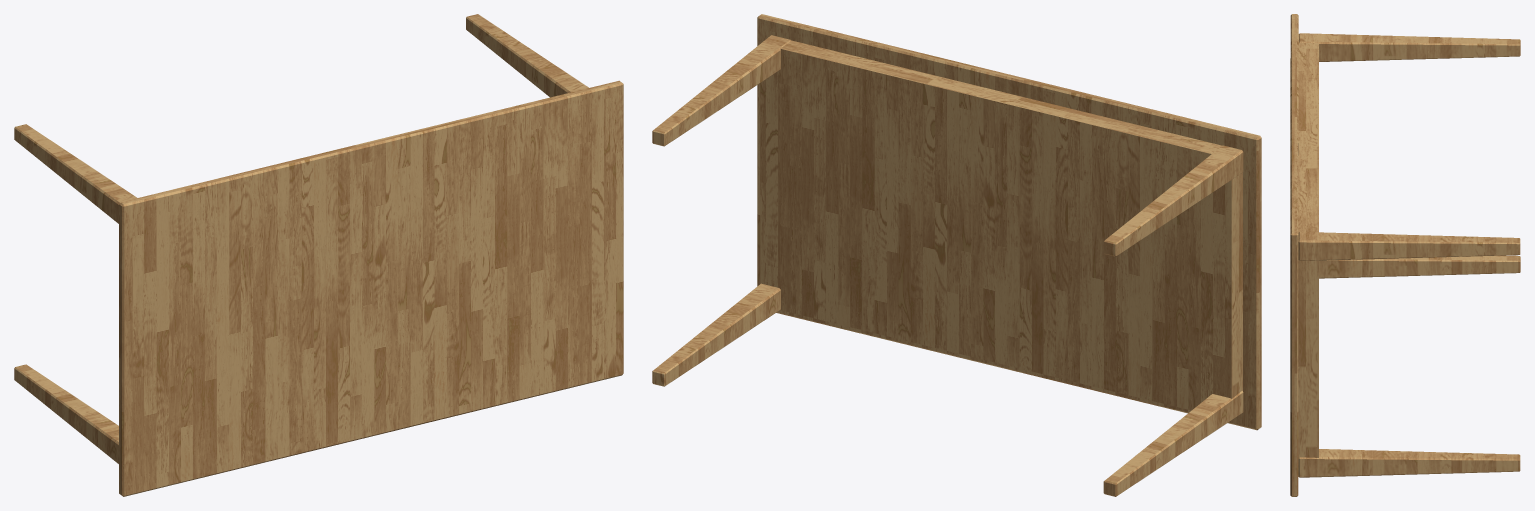
Rendered from DiningTable_208.obj.
3 renders of one model, left to right at view 1: azimuth 30°, elevation 25°; view 2: azimuth 150°, elevation 25°; view 3: azimuth 270°, elevation 25°, orthographic. The views are drawn at different scales.
Visible parts, largest first — view 1: DiningTable_208; view 2: DiningTable_208; view 3: DiningTable_208.
Part boxes in pixels (x1,y1,x2,y2): DiningTable_208: (14,14,623,496); DiningTable_208: (652,14,1261,496); DiningTable_208: (1290,14,1520,496).
Size of the model in its own units: 1.77 by 0.9882 by 0.7819.
Materials: 1 (1 with a texture image).
